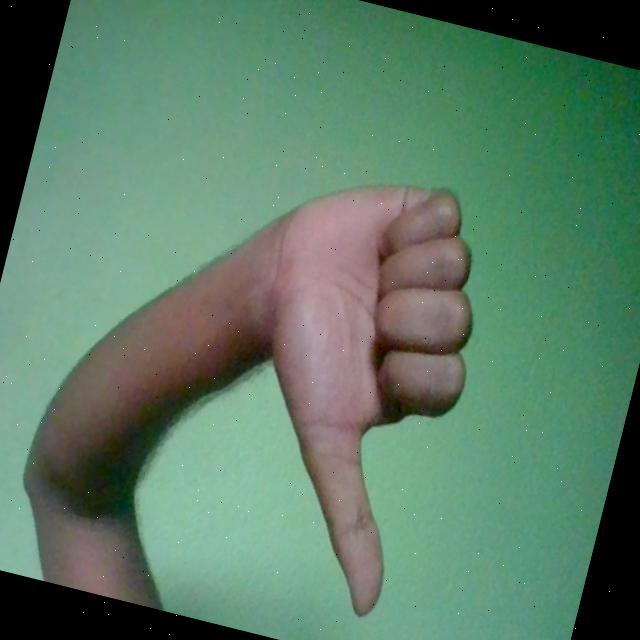Dislike: (197, 152, 507, 627)
